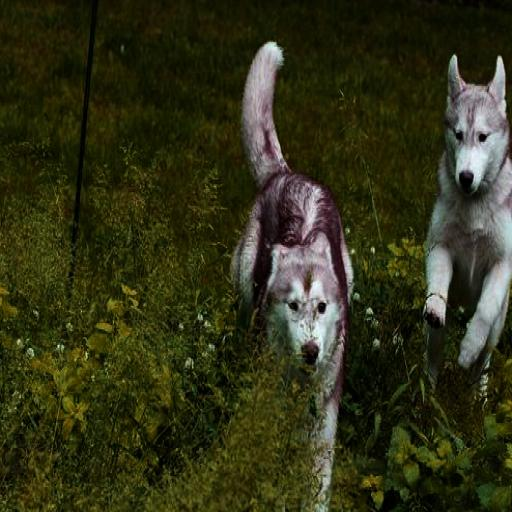dog_face: (445, 55, 512, 193), (265, 248, 339, 370)
